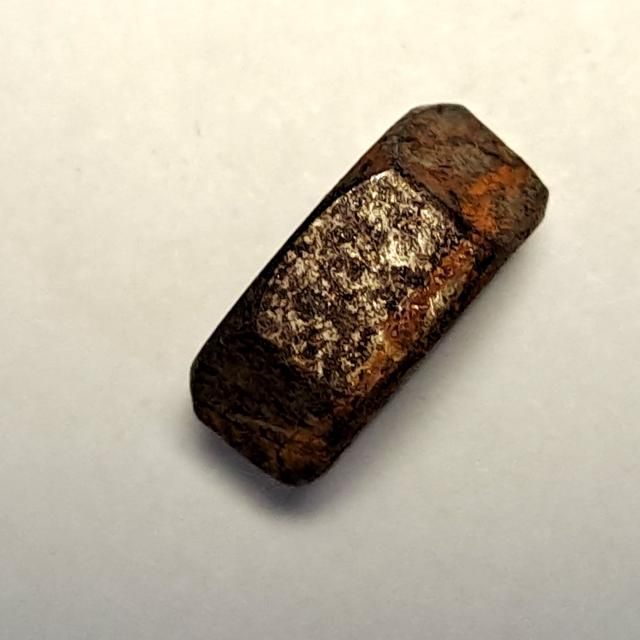Side_Rust: (179, 94, 564, 500)
